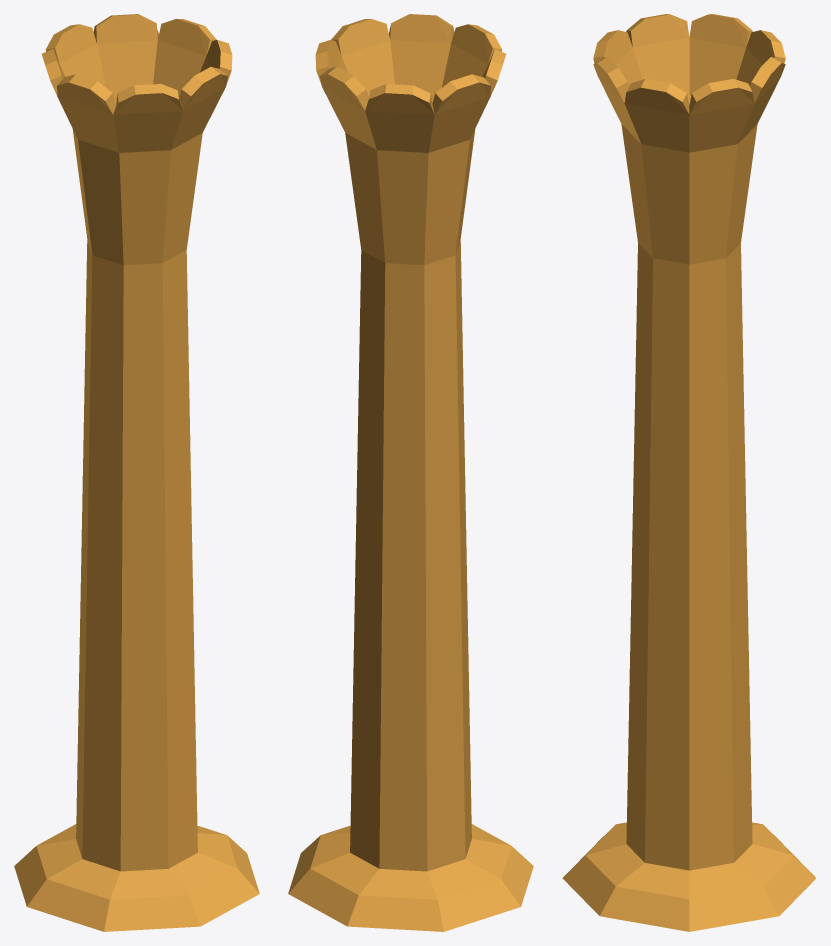
The model's file is 024_EgyptPillar.fbx.
3 views of the same model, side by side, from view 1: azimuth 30°, elevation 25°; view 2: azimuth 150°, elevation 25°; view 3: azimuth 270°, elevation 25° (orthographic).
Visible parts, largest first — view 1: EGYPT_PILLAR; view 2: EGYPT_PILLAR; view 3: EGYPT_PILLAR.
Boxes of the visible parts, bbox=[...] form: EGYPT_PILLAR: bbox=[14, 14, 259, 931]; EGYPT_PILLAR: bbox=[288, 14, 533, 931]; EGYPT_PILLAR: bbox=[562, 14, 816, 931].
Bounding box in the file's own units: 28.1 × 101 × 28.1.
